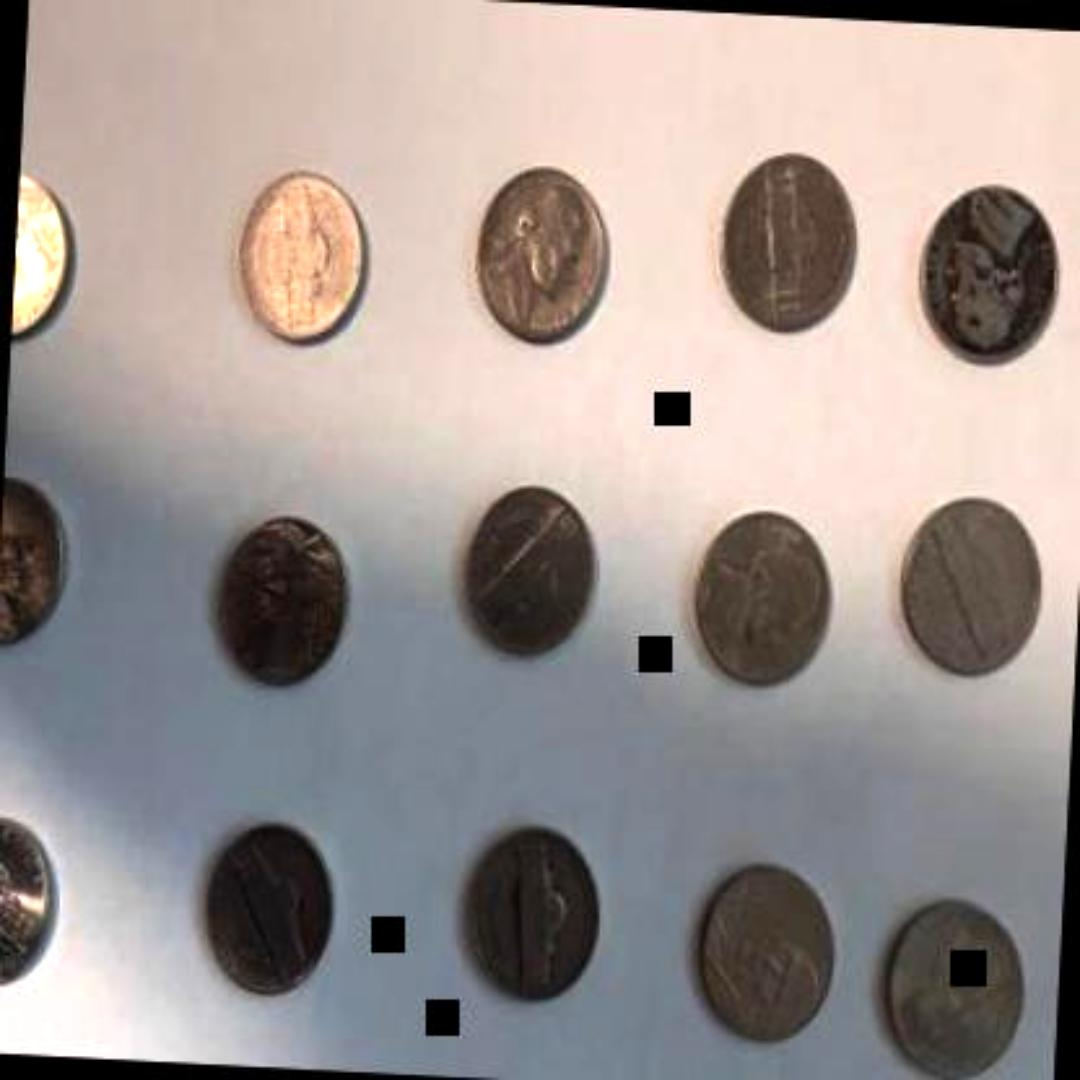Nickel: (687, 854, 847, 1046), (875, 894, 1035, 1080), (712, 144, 864, 336), (895, 492, 1049, 680), (916, 182, 1064, 372), (232, 162, 378, 352), (471, 164, 619, 350), (197, 812, 344, 998), (689, 509, 837, 693), (460, 824, 608, 1006), (211, 512, 361, 690), (458, 482, 603, 664), (9, 162, 87, 346), (1, 476, 76, 648), (0, 798, 64, 994)
